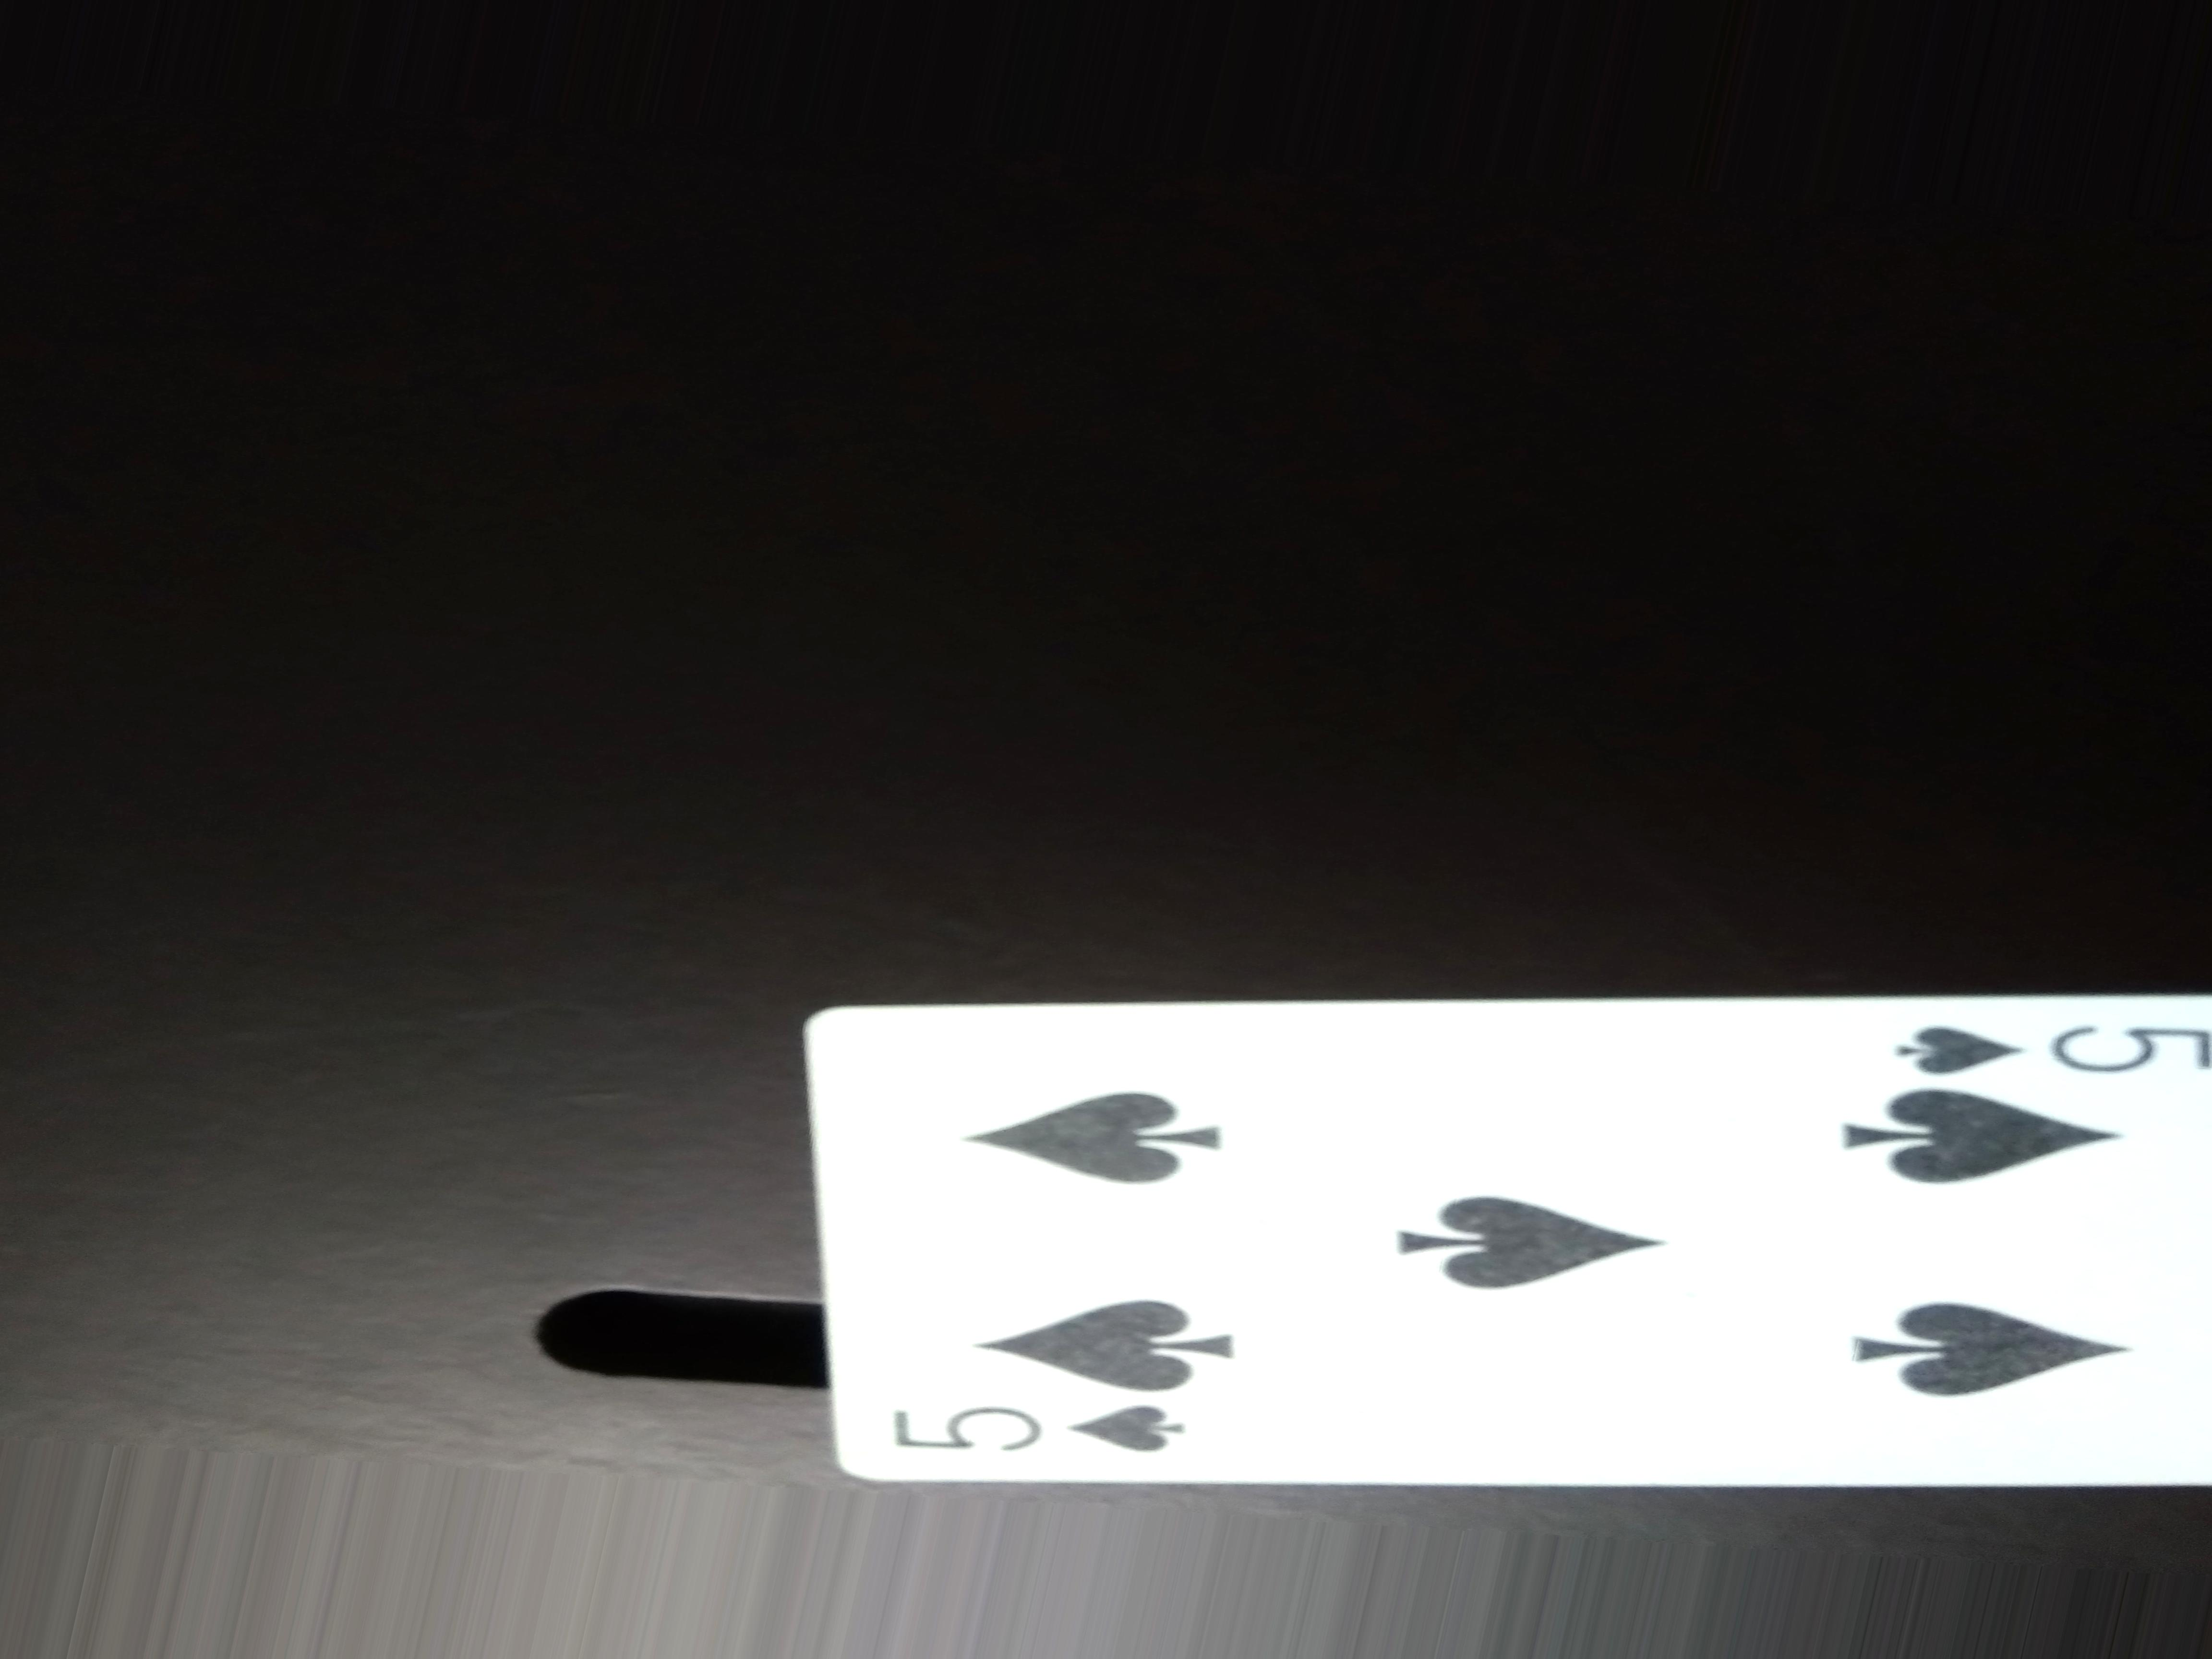5S: (860, 1389, 1212, 1483)
